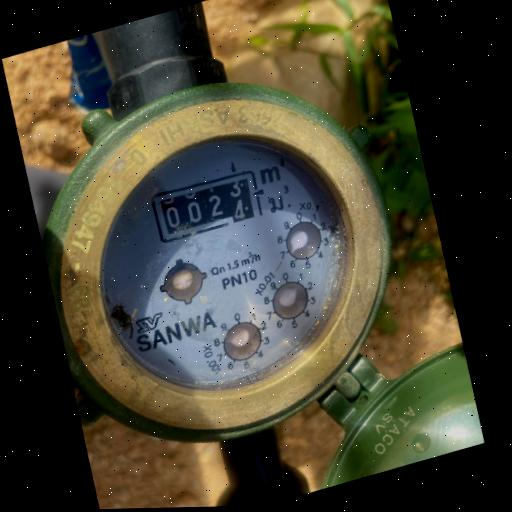0: (179, 189, 212, 229), (159, 194, 190, 234)
2: (201, 182, 234, 223)
3: (223, 176, 257, 222)
border_water_meter_number: (146, 165, 265, 244)
